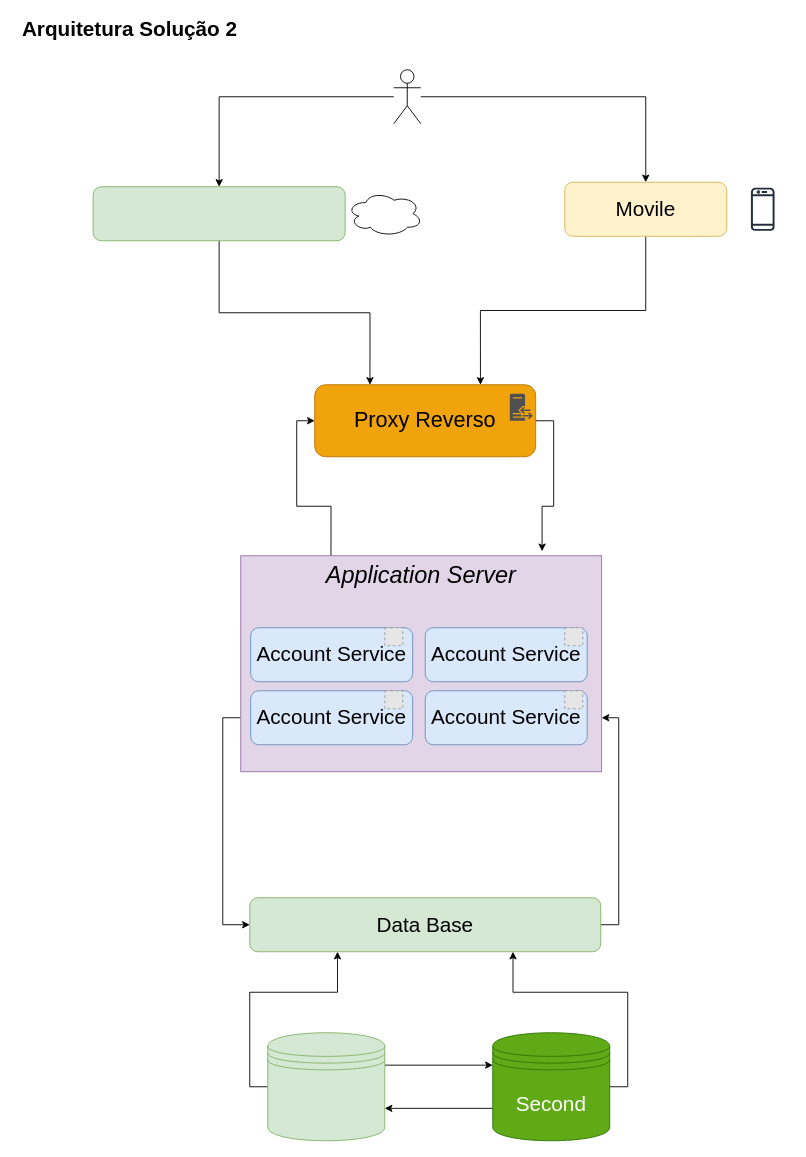
Some shapes in this 806 by 1157 pixel diagram are drawn without their labels. Grey dashed boxes stand in for pictures. The centre of each missing label's shape, as x and y in pixels:
"Customer" goes at point 407,96.
"Front end" goes at point 384,213.
"Primary" goes at point 326,1086.
"Web" goes at point 218,213.
